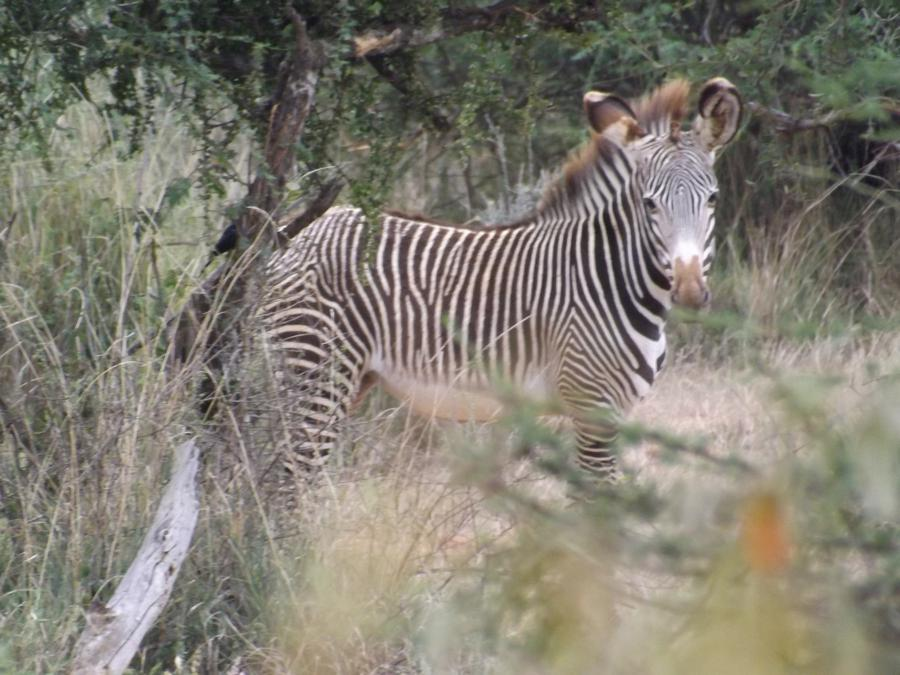zebra_grevys: (255, 188, 639, 419)
